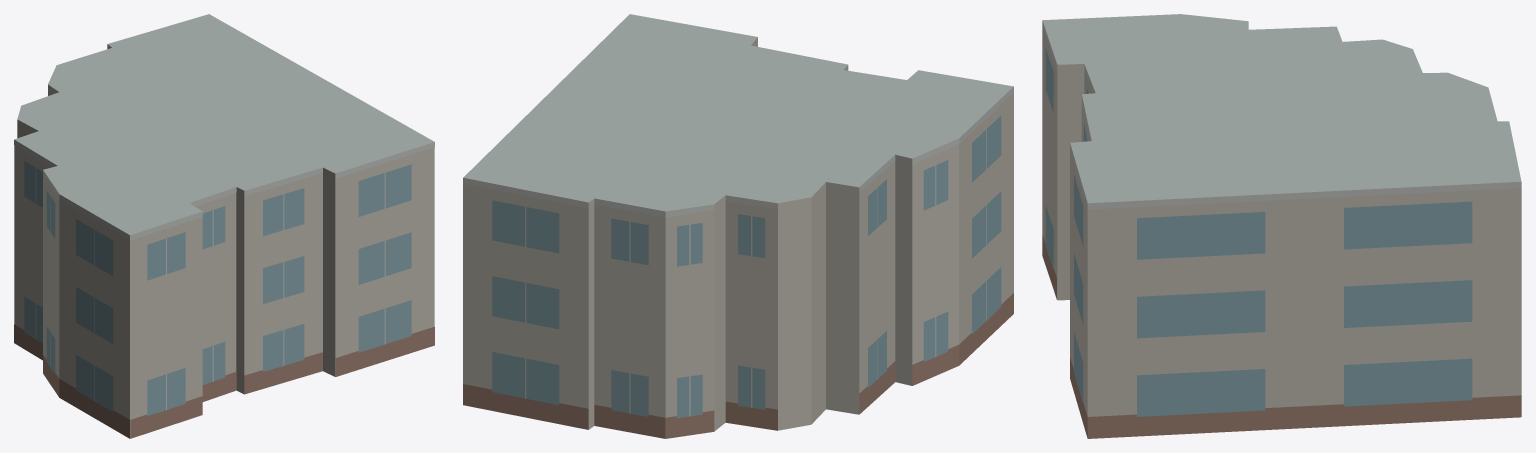
File: survey-upis-32586205.glb
3 views of the same model, side by side, from view 1: azimuth 30°, elevation 25°; view 2: azimuth 150°, elevation 25°; view 3: azimuth 270°, elevation 25° (orthographic). The views are drawn at different scales.
Visible parts, largest first — view 1: survey-upis-32586205.tmp; view 2: survey-upis-32586205.tmp; view 3: survey-upis-32586205.tmp.
Boxes of the visible parts, x1,y1,x2,y2 form: survey-upis-32586205.tmp: (14,14,434,438); survey-upis-32586205.tmp: (463,14,1013,438); survey-upis-32586205.tmp: (1042,14,1521,438).
Size of the model in its own units: 15.77 by 9.15 by 16.87.
